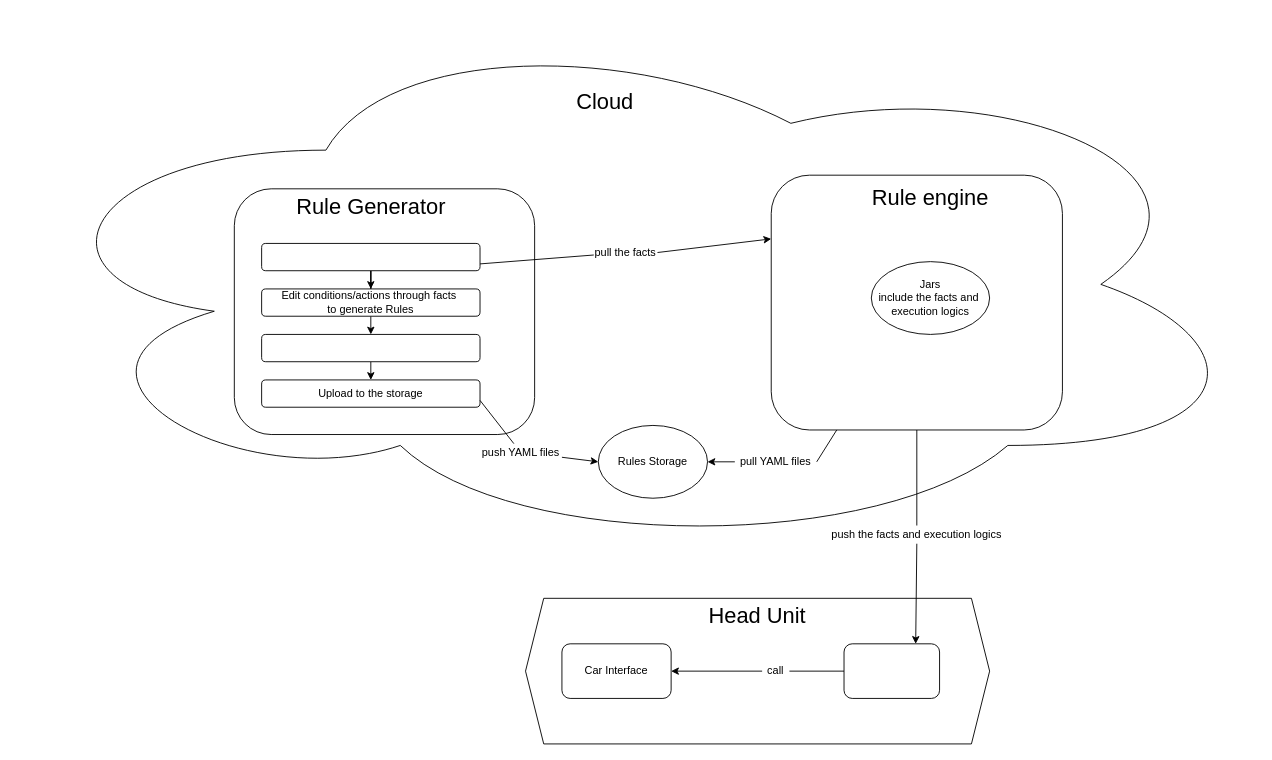
Image size: 1272x760. Some labels were removed from this diagram. The centre of each missing label's shape, as x and y in pixels:
Convert Rules to YAML files: the point at 370,348
Pull facts from the remote jar: the point at 370,257
Remote Update: the point at 891,670
